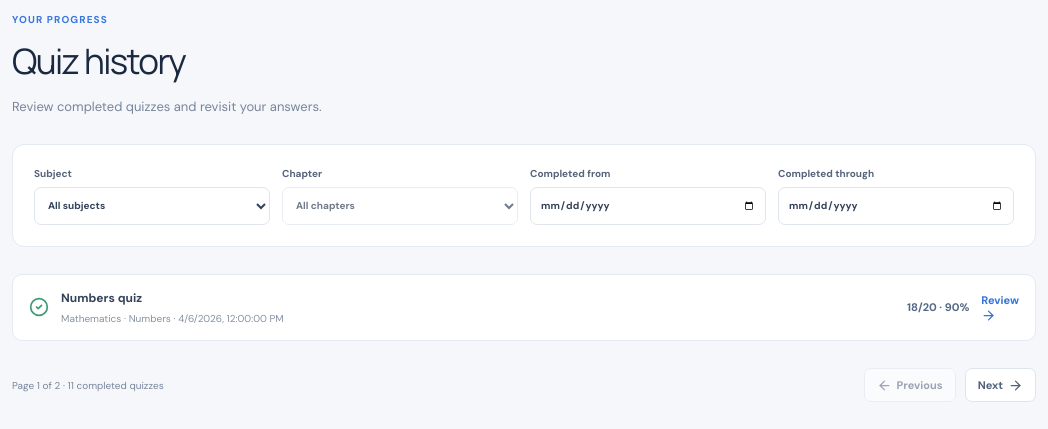
Test: student quiz history › filters history and navigates its paginated results
Expected: the text "Numbers quiz" is shown, [61,290,142,306]
Select "Mathematics" in the dropdown named "Filter by subject" at x=152, y=206, box [34,187,270,225]
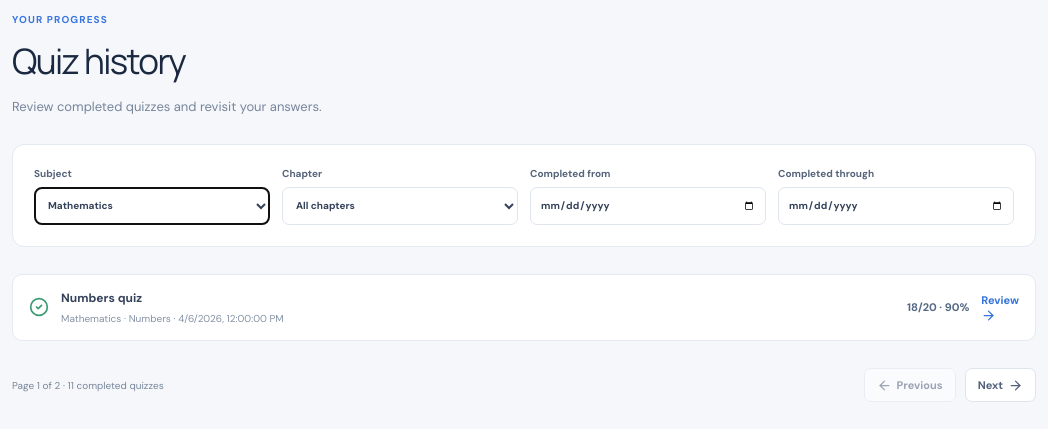
Select "Numbers" in the dropdown named "Filter by chapter" at x=400, y=206, box [282,187,518,225]
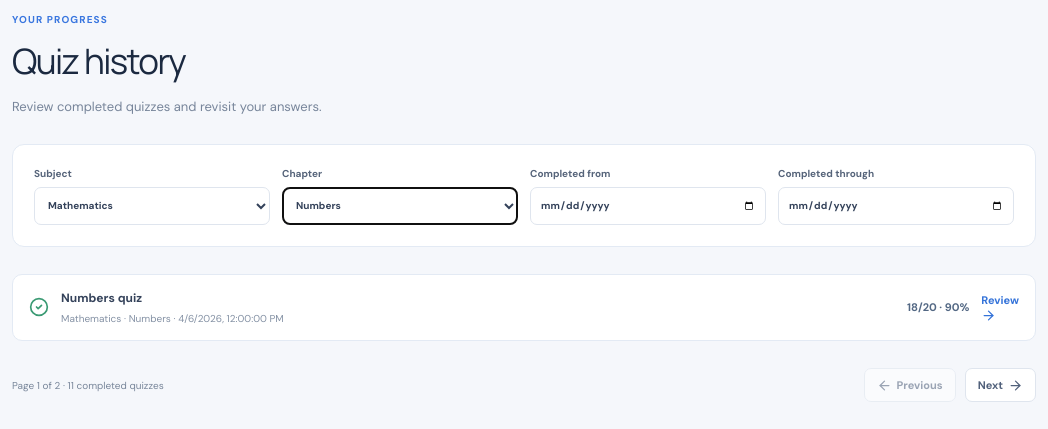
Type "2026-04-04" into the date field labelled "Completed from".
click(648, 206); type("2026-04-04")  # box [530,187,766,225]
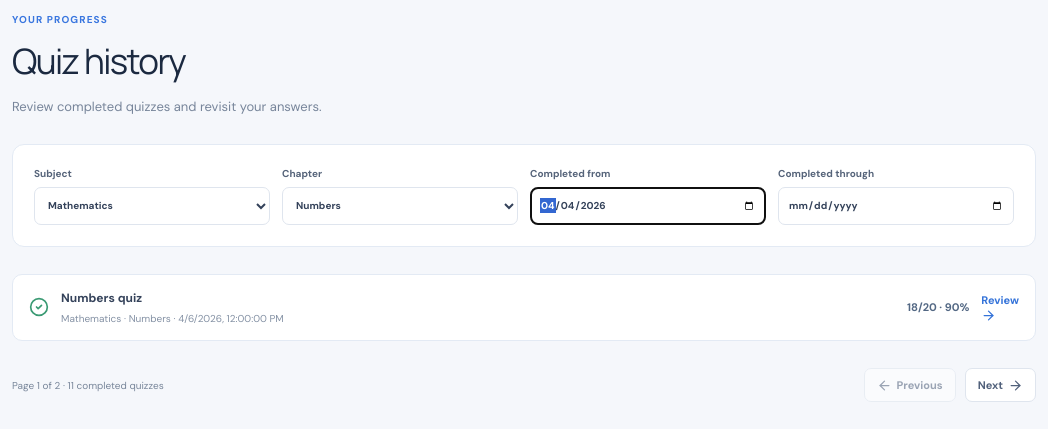
Click the button "Next".
click(1000, 385)  # box [965,368,1036,402]
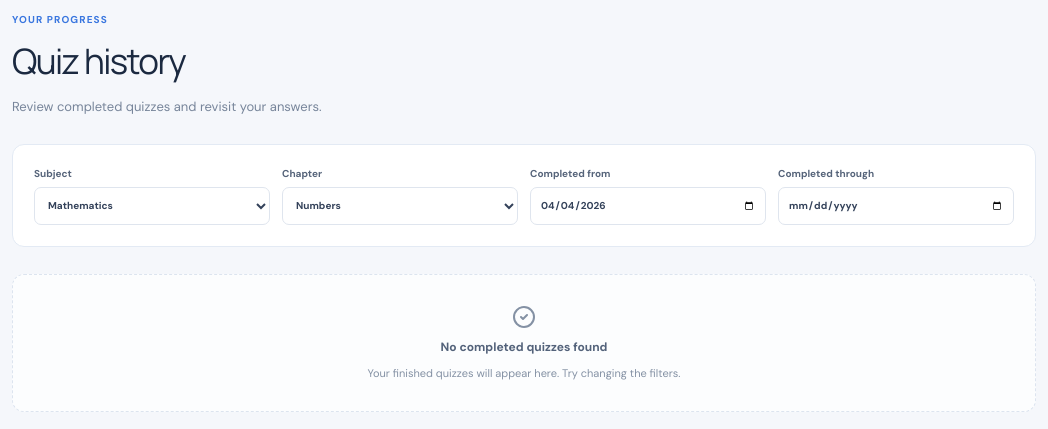
Expected: the text "No completed quizzes found" is shown, [441,338,608,356]
